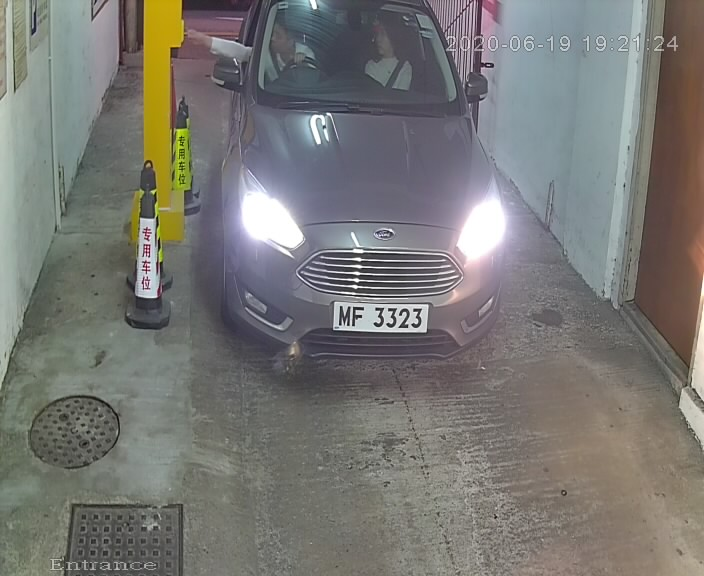privatecar: (188, 3, 545, 359)
